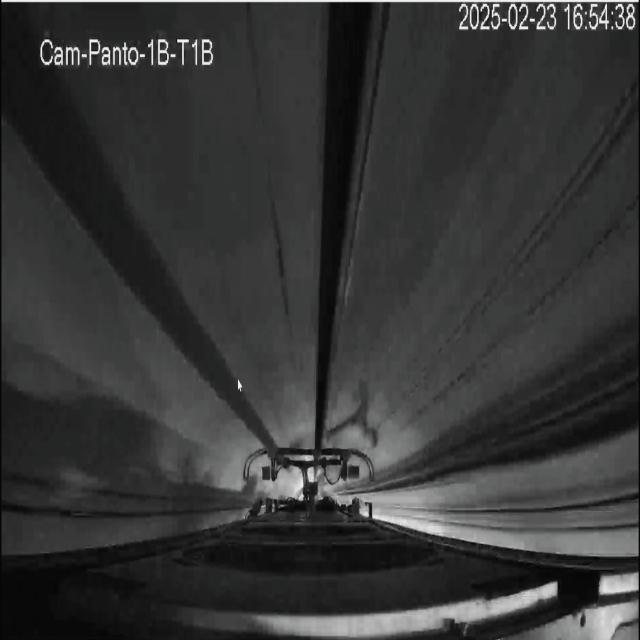Camera Stamp: (35, 28, 219, 71)
Date Stamp: (457, 3, 637, 33)
No - Spark: (244, 445, 375, 514)
